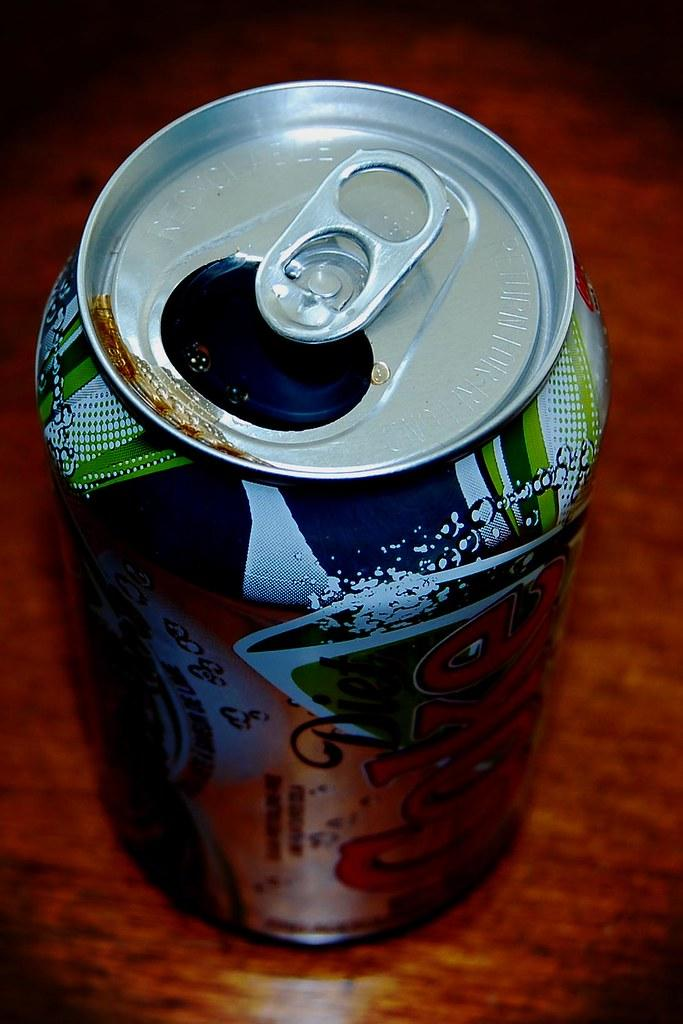metal: (35, 81, 610, 944)
